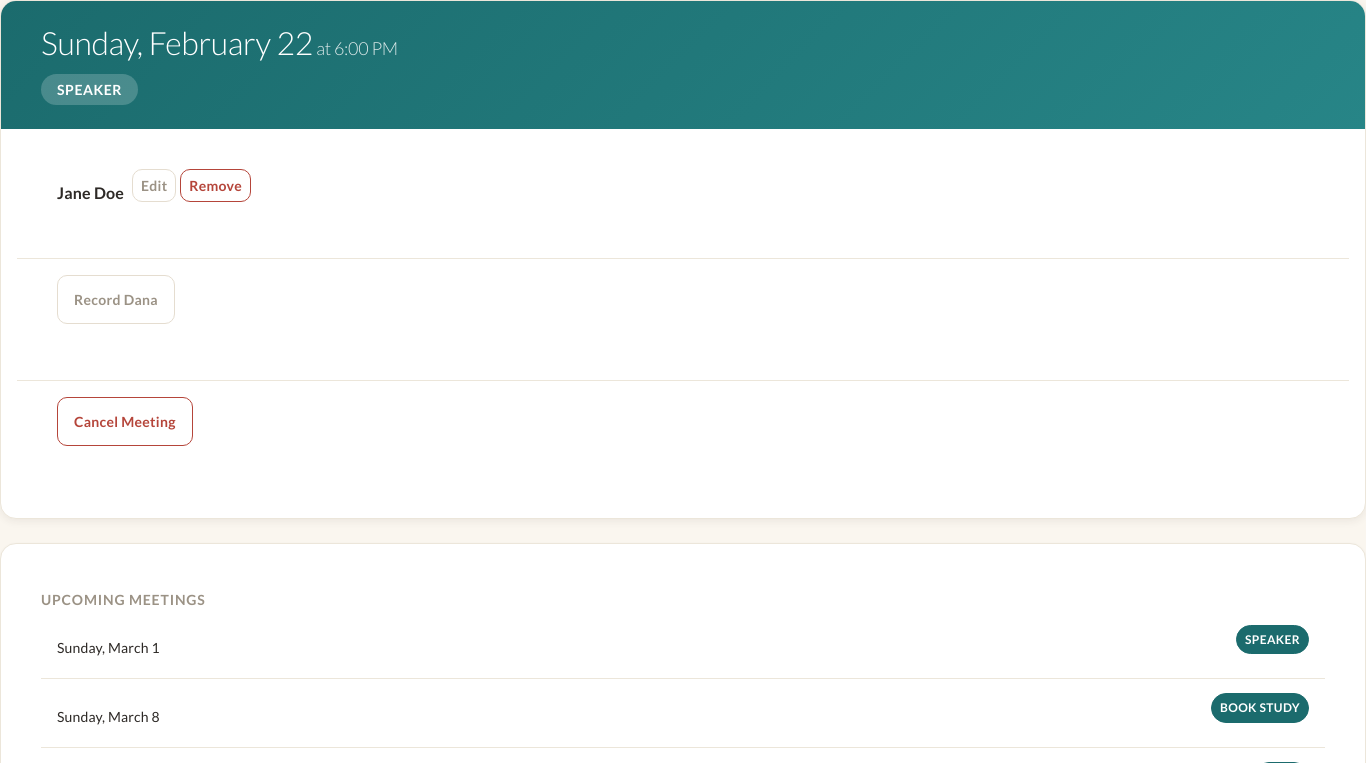
Scenario: Landing › speaker management › opens edit form pre-filled with current speaker name
Step 1. Click the button with aria-label "Edit speaker" → (154, 185), box [132,169,176,202]
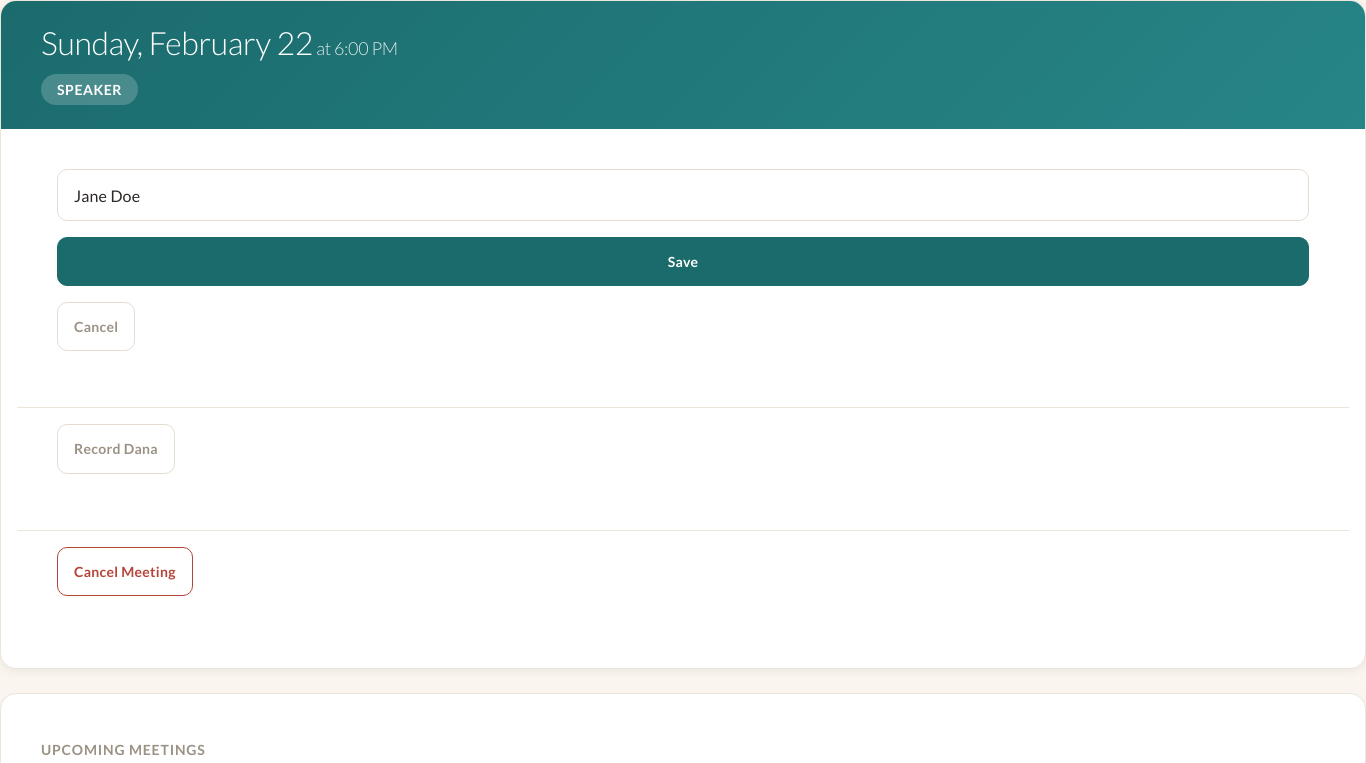
Expected: the field with placeholder "Speaker name" holds "Jane Doe", [57,169,1309,221]
Expected: the button "Save" is shown, [57,237,1309,286]
